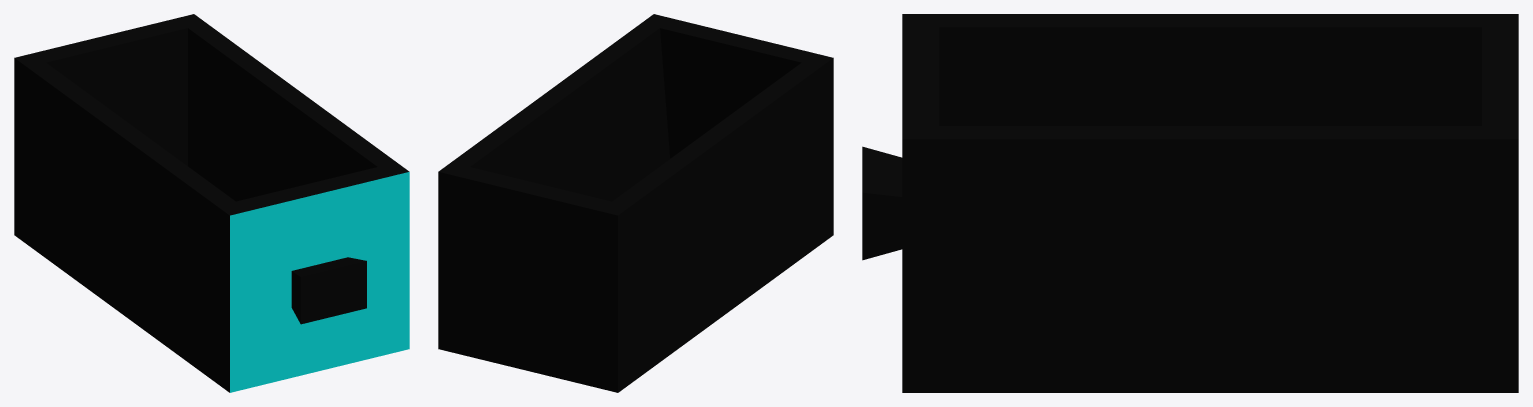
File: single_drawer_with_handle.fbx
3 renders of one model, left to right at view 1: azimuth 30°, elevation 25°; view 2: azimuth 150°, elevation 25°; view 3: azimuth 270°, elevation 25°, orthographic. The views are drawn at different scales.
Visible parts, largest first — view 1: polySurface1000; view 2: polySurface1000; view 3: polySurface1000.
Part boxes in pixels (x1,y1,x2,y2): polySurface1000: [14, 14, 409, 392]; polySurface1000: [438, 14, 833, 392]; polySurface1000: [862, 14, 1518, 392].
Bounding box in the file's own units: 10.57 × 9.96 × 23.38.
